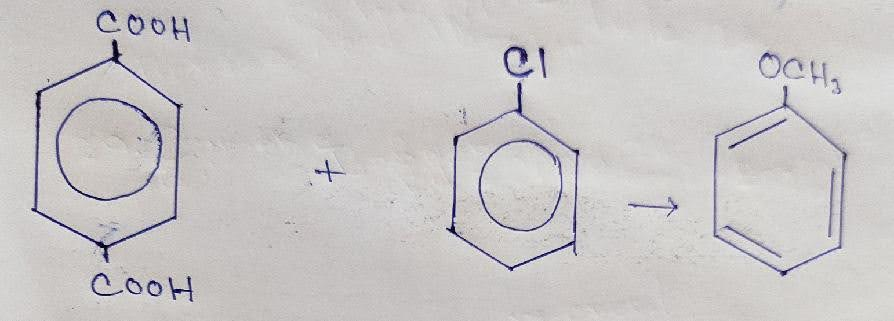Anisole(C7H8O): (710, 51, 850, 277)
Chlorobenzene(C6H5Cl): (446, 43, 582, 274)
Terephthalic Acid(C8H6O4): (30, 6, 199, 305)
